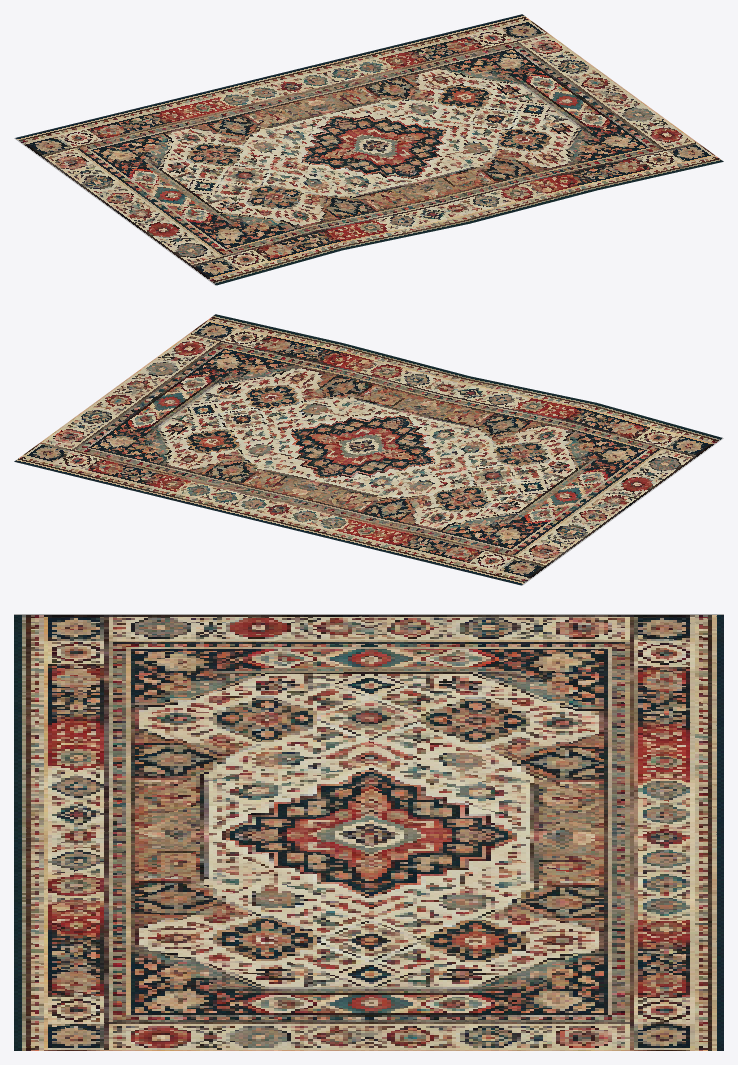
Rendered from Rug02.glb.
3 views of the same model, one above another, from view 1: azimuth 30°, elevation 25°; view 2: azimuth 150°, elevation 25°; view 3: azimuth 270°, elevation 25° (orthographic). The views are drawn at different scales.
Visible parts, largest first — view 1: Rug02; view 2: Rug02; view 3: Rug02.
Part boxes in pixels (<box>): Rug02: <box>14,14,723,285</box>; Rug02: <box>14,314,723,585</box>; Rug02: <box>14,614,723,1050</box>.
Size of the model in its own units: 1.66 by 0.0151 by 1.14.
1 material, 1 textured.
